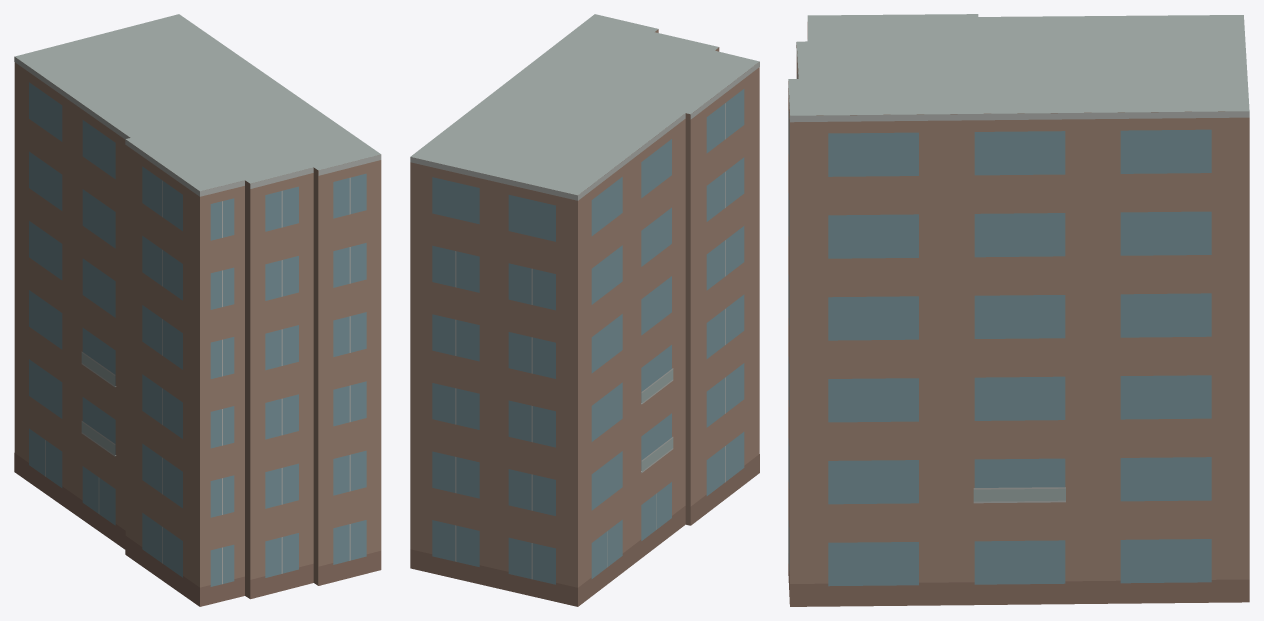
Rendered from survey-upis-32739856.glb.
3 renders of one model, left to right at view 1: azimuth 30°, elevation 25°; view 2: azimuth 150°, elevation 25°; view 3: azimuth 270°, elevation 25°, orthographic. The views are drawn at different scales.
Parts seen in each view (by area): view 1: survey-upis-32739856.tmp; view 2: survey-upis-32739856.tmp; view 3: survey-upis-32739856.tmp.
Part boxes in pixels (bbox=[...]): survey-upis-32739856.tmp: bbox=[14, 14, 381, 606]; survey-upis-32739856.tmp: bbox=[410, 14, 759, 606]; survey-upis-32739856.tmp: bbox=[788, 14, 1249, 606].
Bounding box in the file's own units: 8.23 × 18.5 × 15.76.
